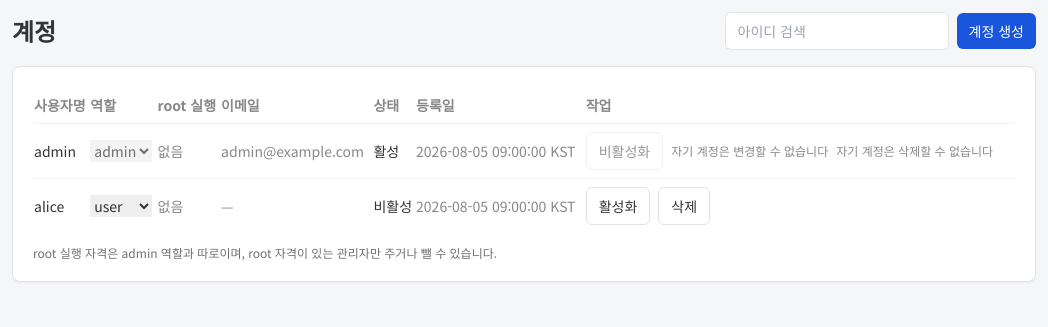
Test: shows the Korean message when a mutation returns 409 cannot_lock_self
Click the button "활성화".
click(618, 206)  # box [586, 187, 650, 225]
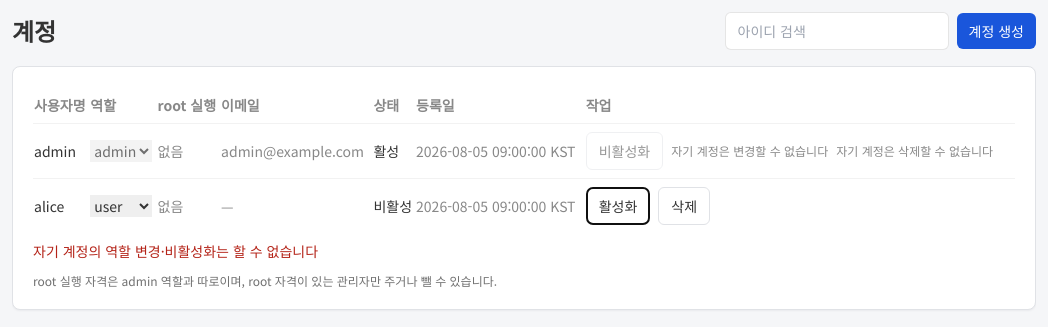
Result: the text "자기 계정의 역할 변경·비활성화는 할 수 없습니다" is shown at [33, 241, 318, 261]
